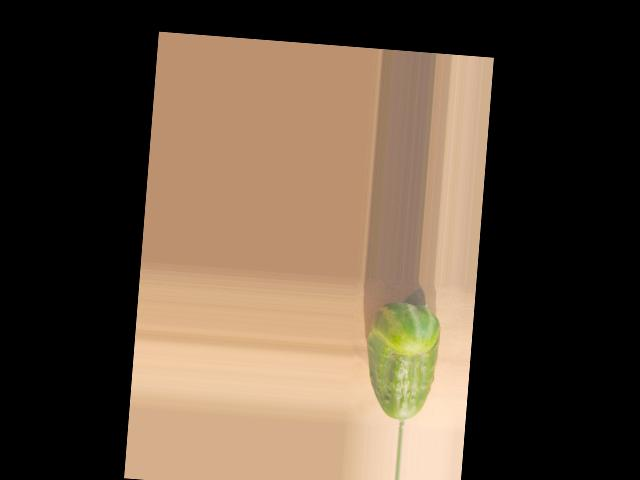cucumber: (362, 300, 443, 422)
